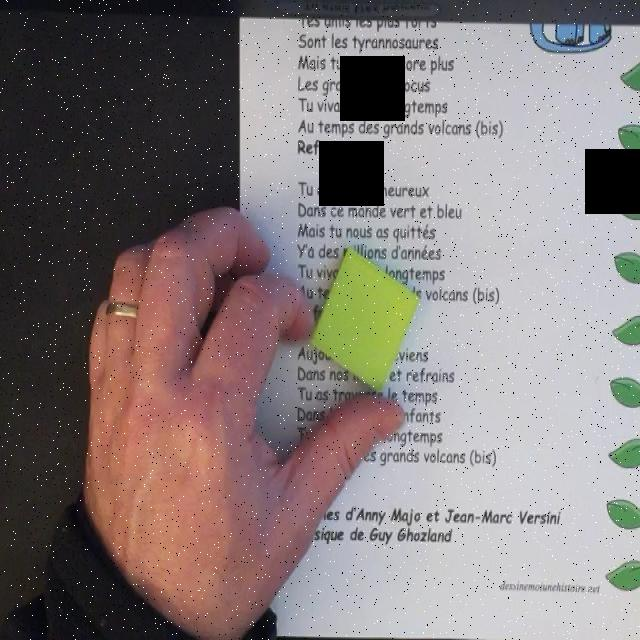square: (308, 247, 418, 392)
